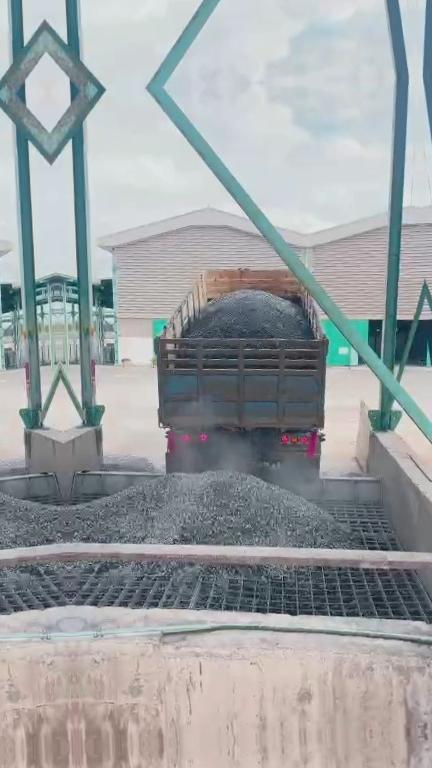gravel: (66, 472, 356, 546), (69, 560, 295, 587), (185, 290, 312, 338), (100, 454, 162, 472)
